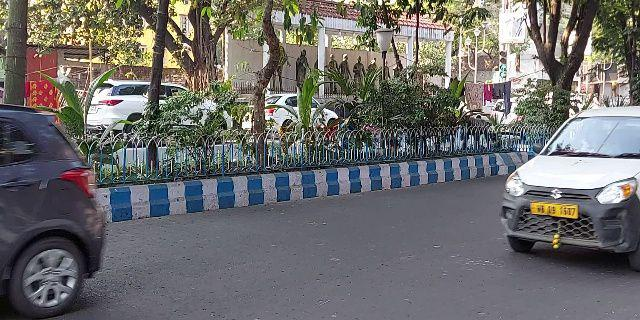Car: (1, 102, 107, 314), (497, 104, 640, 261)
